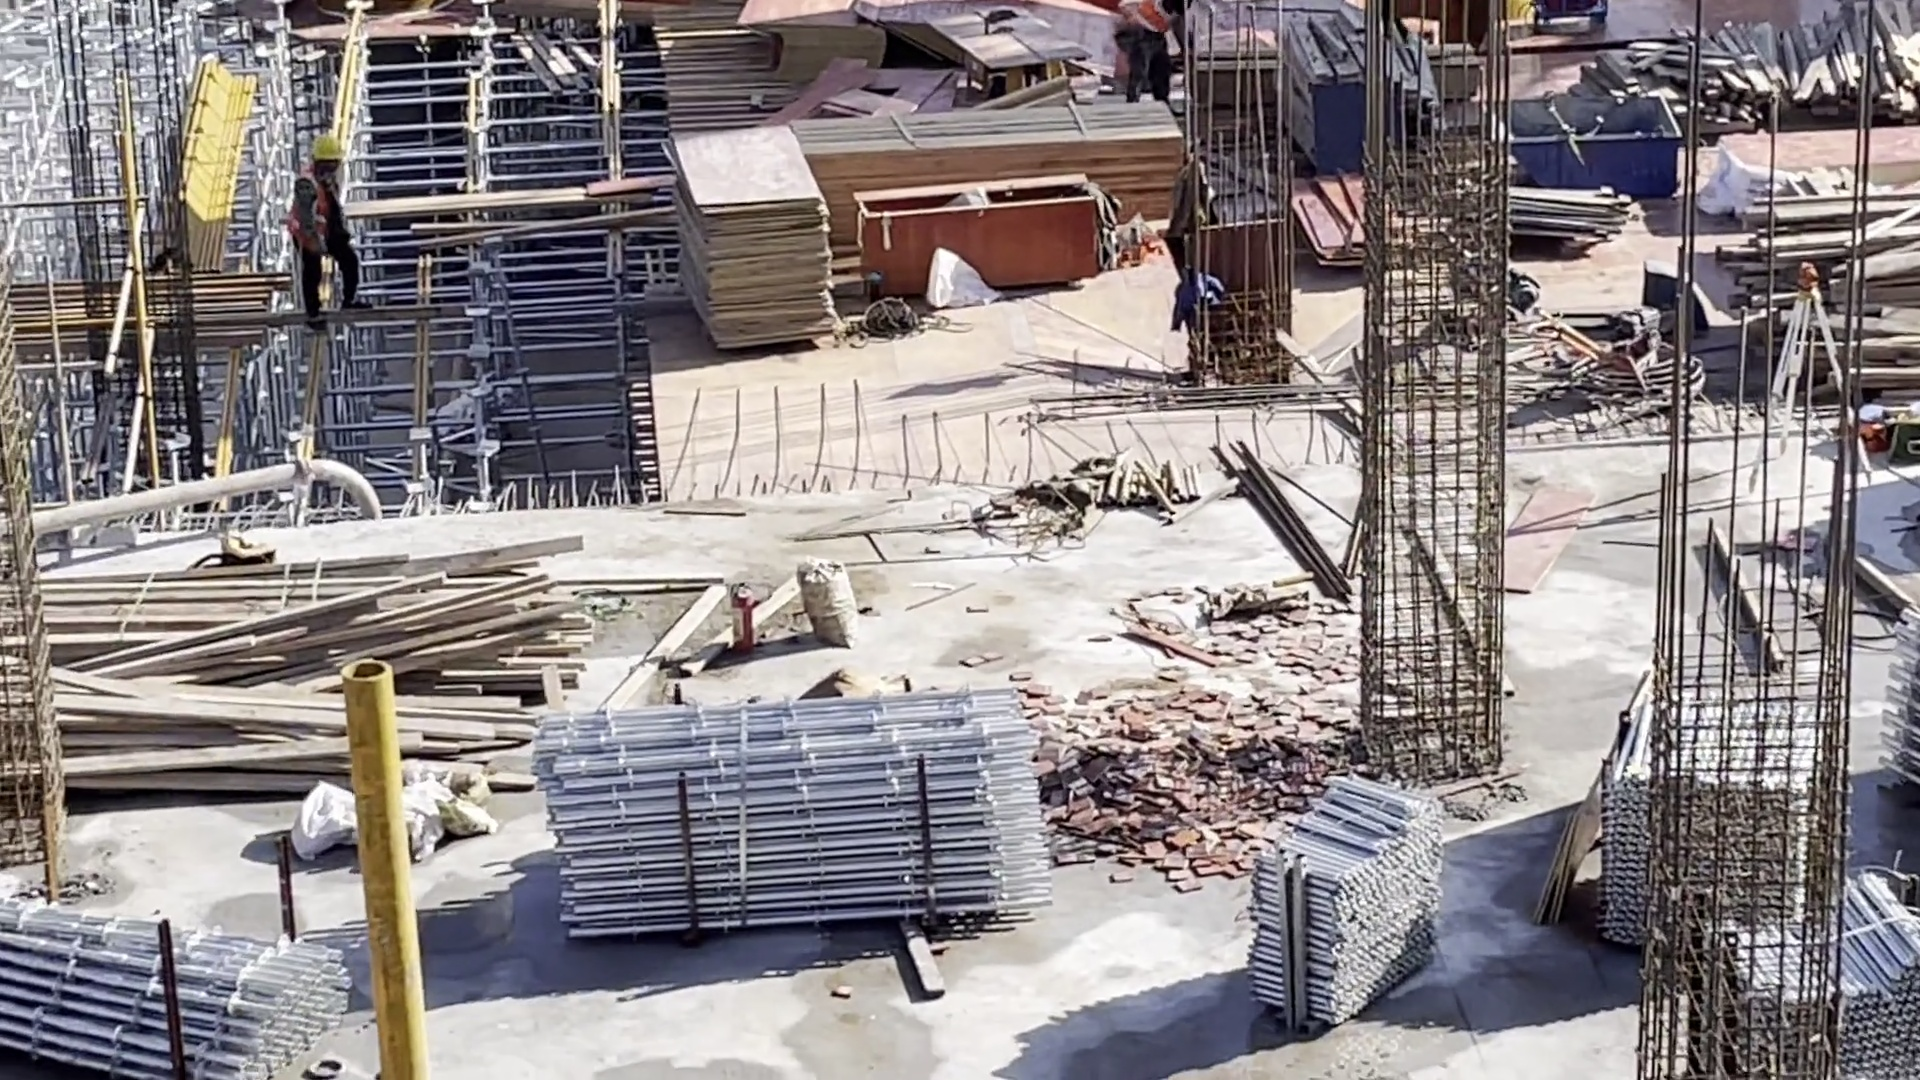board: (663, 121, 847, 358)
helmet: (309, 136, 344, 165)
hopper: (1489, 91, 1680, 196)
person: (292, 137, 374, 319), (1122, 2, 1182, 105)
scaffold: (528, 685, 1062, 945), (1603, 645, 1920, 1078), (2, 886, 357, 1080), (1254, 771, 1436, 1029)
vest: (299, 169, 346, 257), (1136, 1, 1173, 38)
wood: (24, 527, 596, 804), (1722, 192, 1920, 384), (807, 104, 1187, 186), (1641, 9, 1920, 118)
